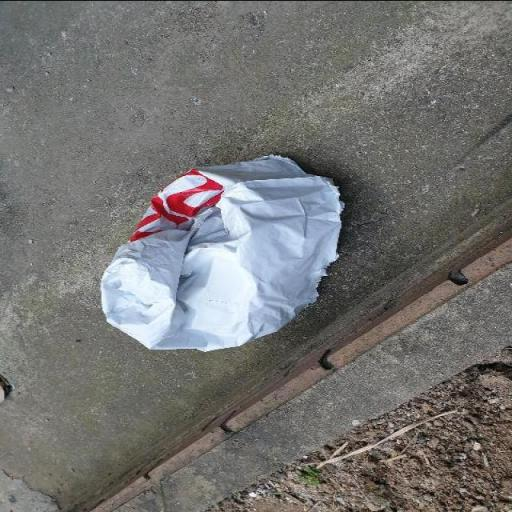plastic-bag: (99, 150, 348, 348)
